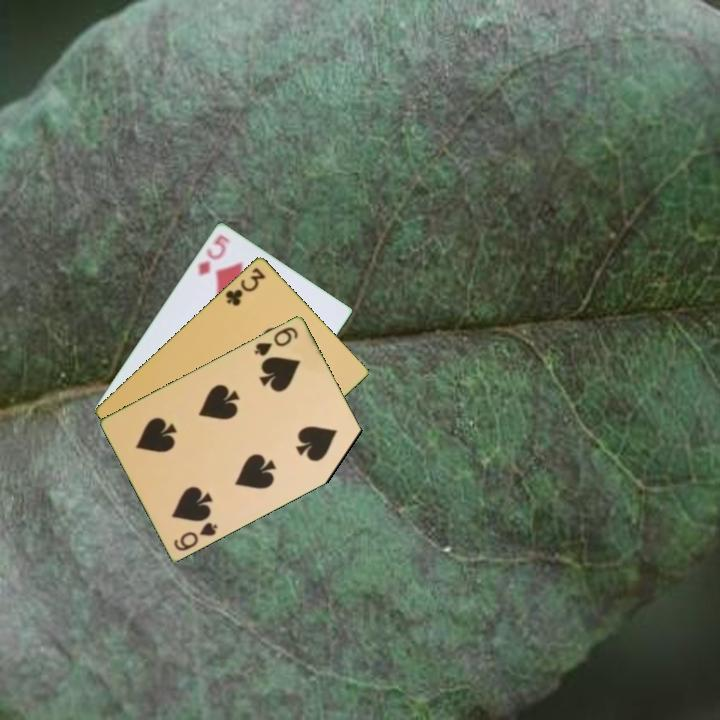3c: (222, 264, 269, 309)
5d: (194, 231, 234, 278)
6s: (170, 518, 221, 554), (251, 323, 301, 358)
